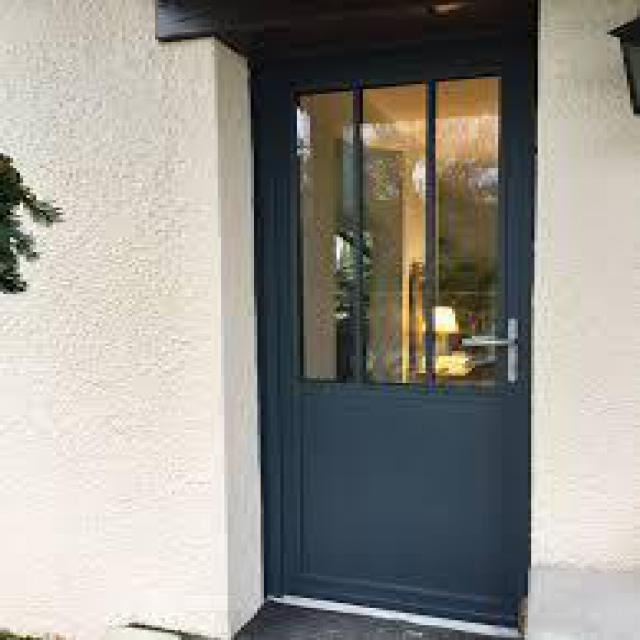close: (221, 10, 581, 637)
